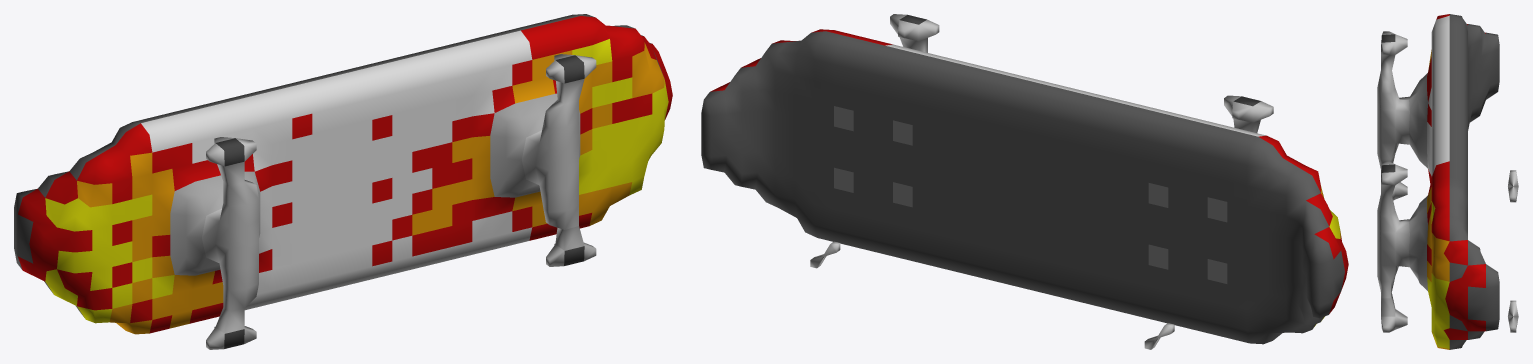
3 renders of one model, left to right at view 1: azimuth 30°, elevation 25°; view 2: azimuth 150°, elevation 25°; view 3: azimuth 270°, elevation 25°, orthographic. The views are drawn at different scales.
Size of the model in its own units: 1.6 by 0.5 by 0.39.
